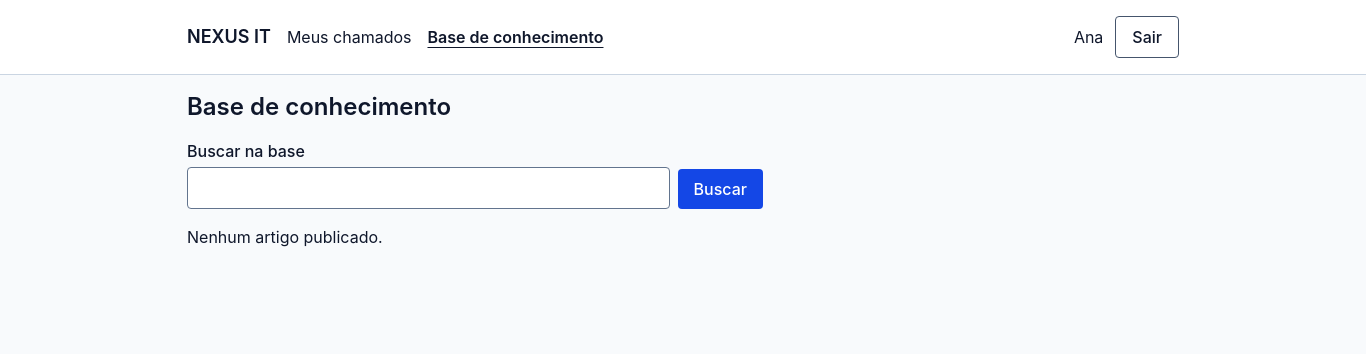
Test: aviso do modo da busca (FR-13) › degradada sem resultado: aviso e 'nada encontrado' aparecem juntos
Type "zzz" into the search field labelled "Buscar na base". click: (428, 188)
box: [187,167,670,209]
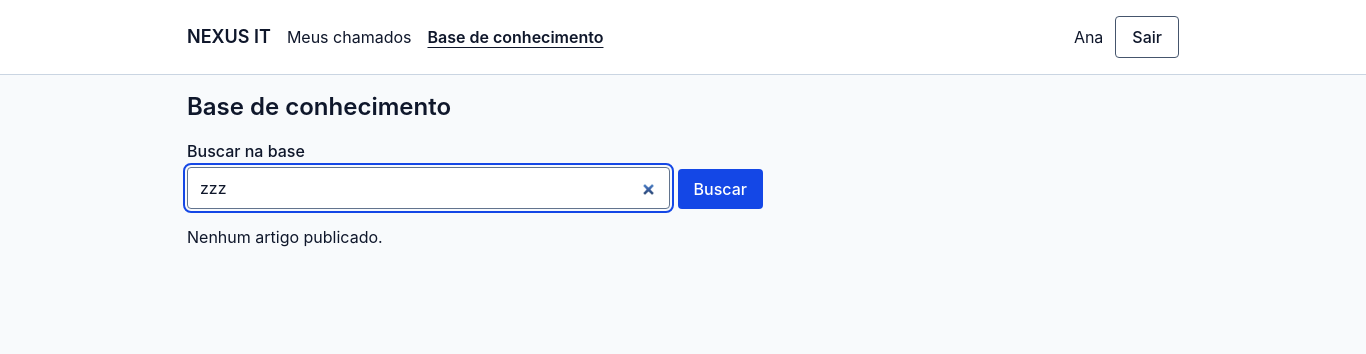
Click the button "Buscar". click: (720, 189)
box: [678,169,763,209]
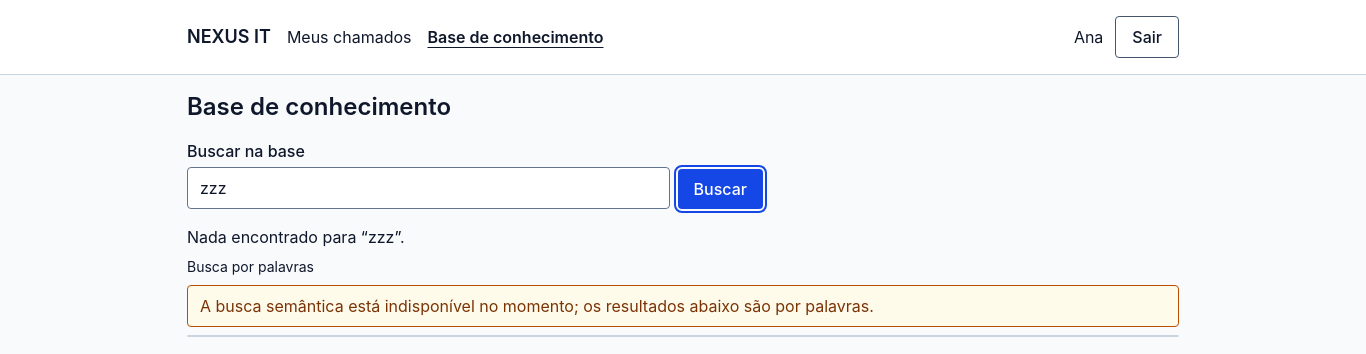
Now the message shows "Nada encontrado", box [187,227,404,247]
Now the text "indisponível" is shown, box [200,296,874,316]
